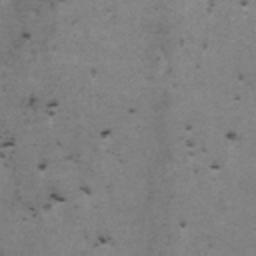Oxide scale of temperature system: (0, 93, 113, 212), (186, 73, 244, 170), (179, 36, 210, 49), (20, 29, 32, 41), (97, 234, 111, 244), (238, 0, 251, 8), (88, 68, 97, 78), (177, 220, 187, 229), (127, 106, 137, 114)
